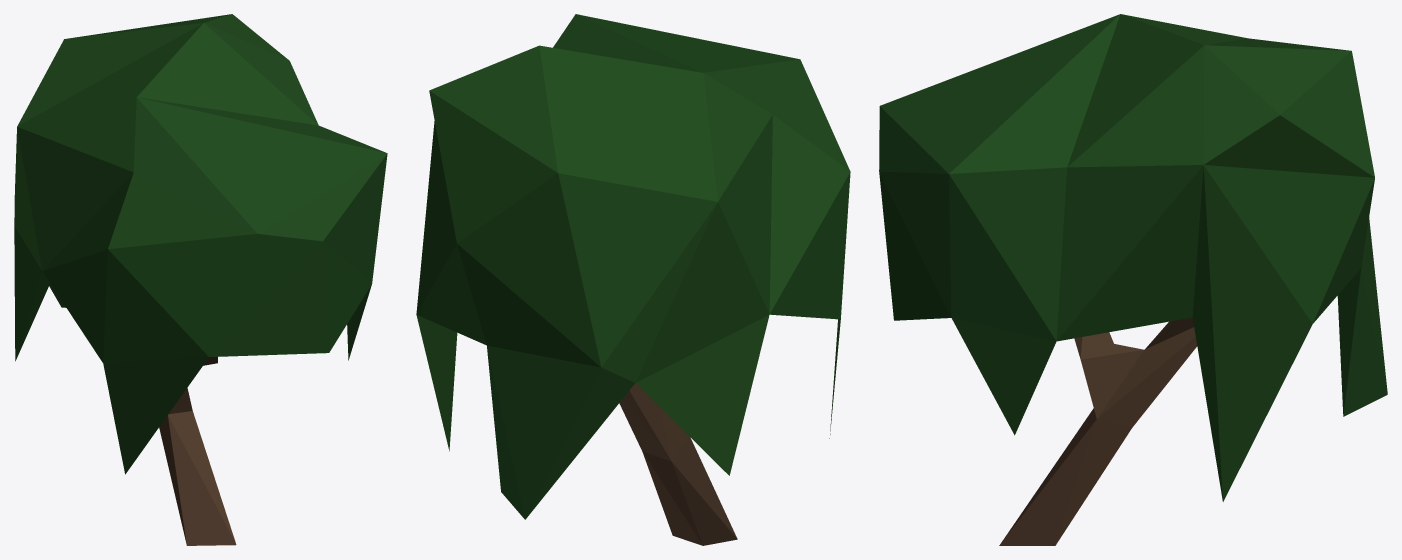
File: tree_big_lod1.glb
The picture shows the model from 3 angles, left to right: view 1: azimuth 30°, elevation 25°; view 2: azimuth 150°, elevation 25°; view 3: azimuth 270°, elevation 25°; orthographic projection. The views are drawn at different scales.
Visible parts, largest first — view 1: tree_big_lod1; view 2: tree_big_lod1; view 3: tree_big_lod1.
Boxes of the visible parts, box(x1,y1,x2,y2) form: tree_big_lod1: box(14, 14, 387, 545); tree_big_lod1: box(416, 14, 850, 545); tree_big_lod1: box(879, 14, 1387, 545).
Size of the model in its own units: 2.11 by 3.4 by 2.95.
